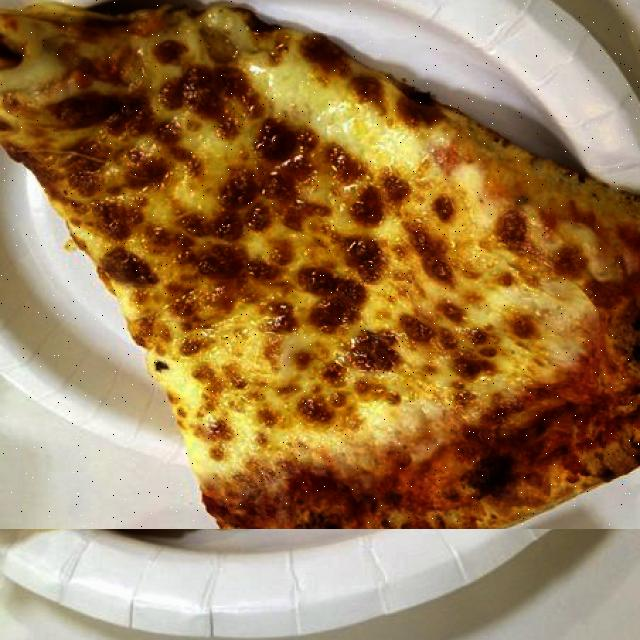Pizza: (0, 0, 640, 529)
